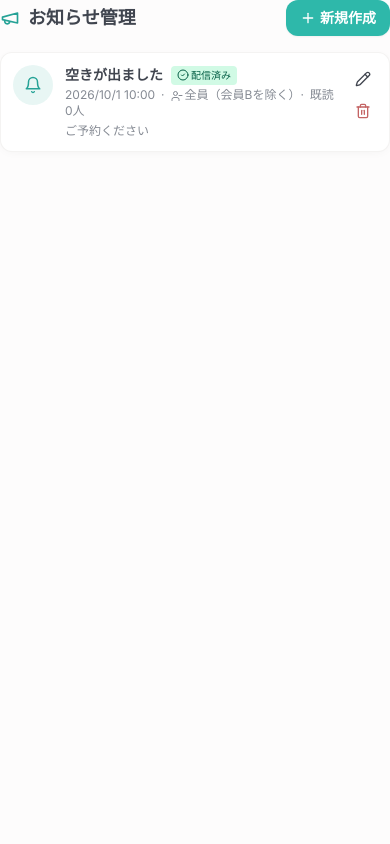
お知らせ管理の画面 › 編集: 除く人が入った状態で開き、更新ではそのお知らせの id を渡す
The width and height of the screenshot is (390, 844).
Later steps or results of the test are not shown.
Expected: the heading "お知らせ管理" is shown, [0, 4, 136, 32]
Step 1. Click the button named "編集" → (363, 79), box [349, 65, 377, 93]
(page scrolled)
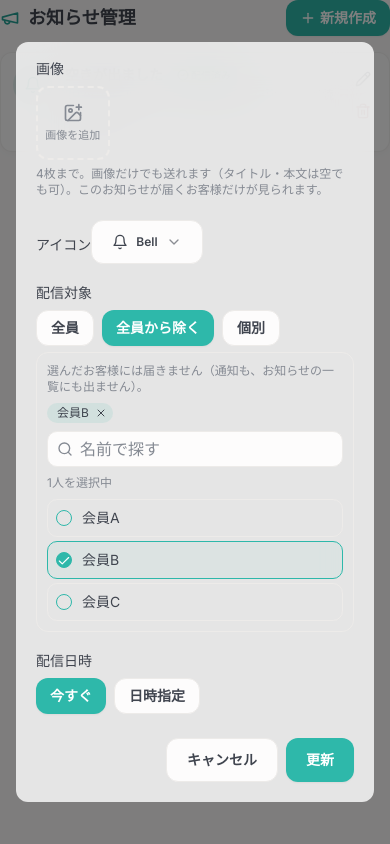
Expected: the 1st text "会員B" is shown, [57, 405, 89, 421]
